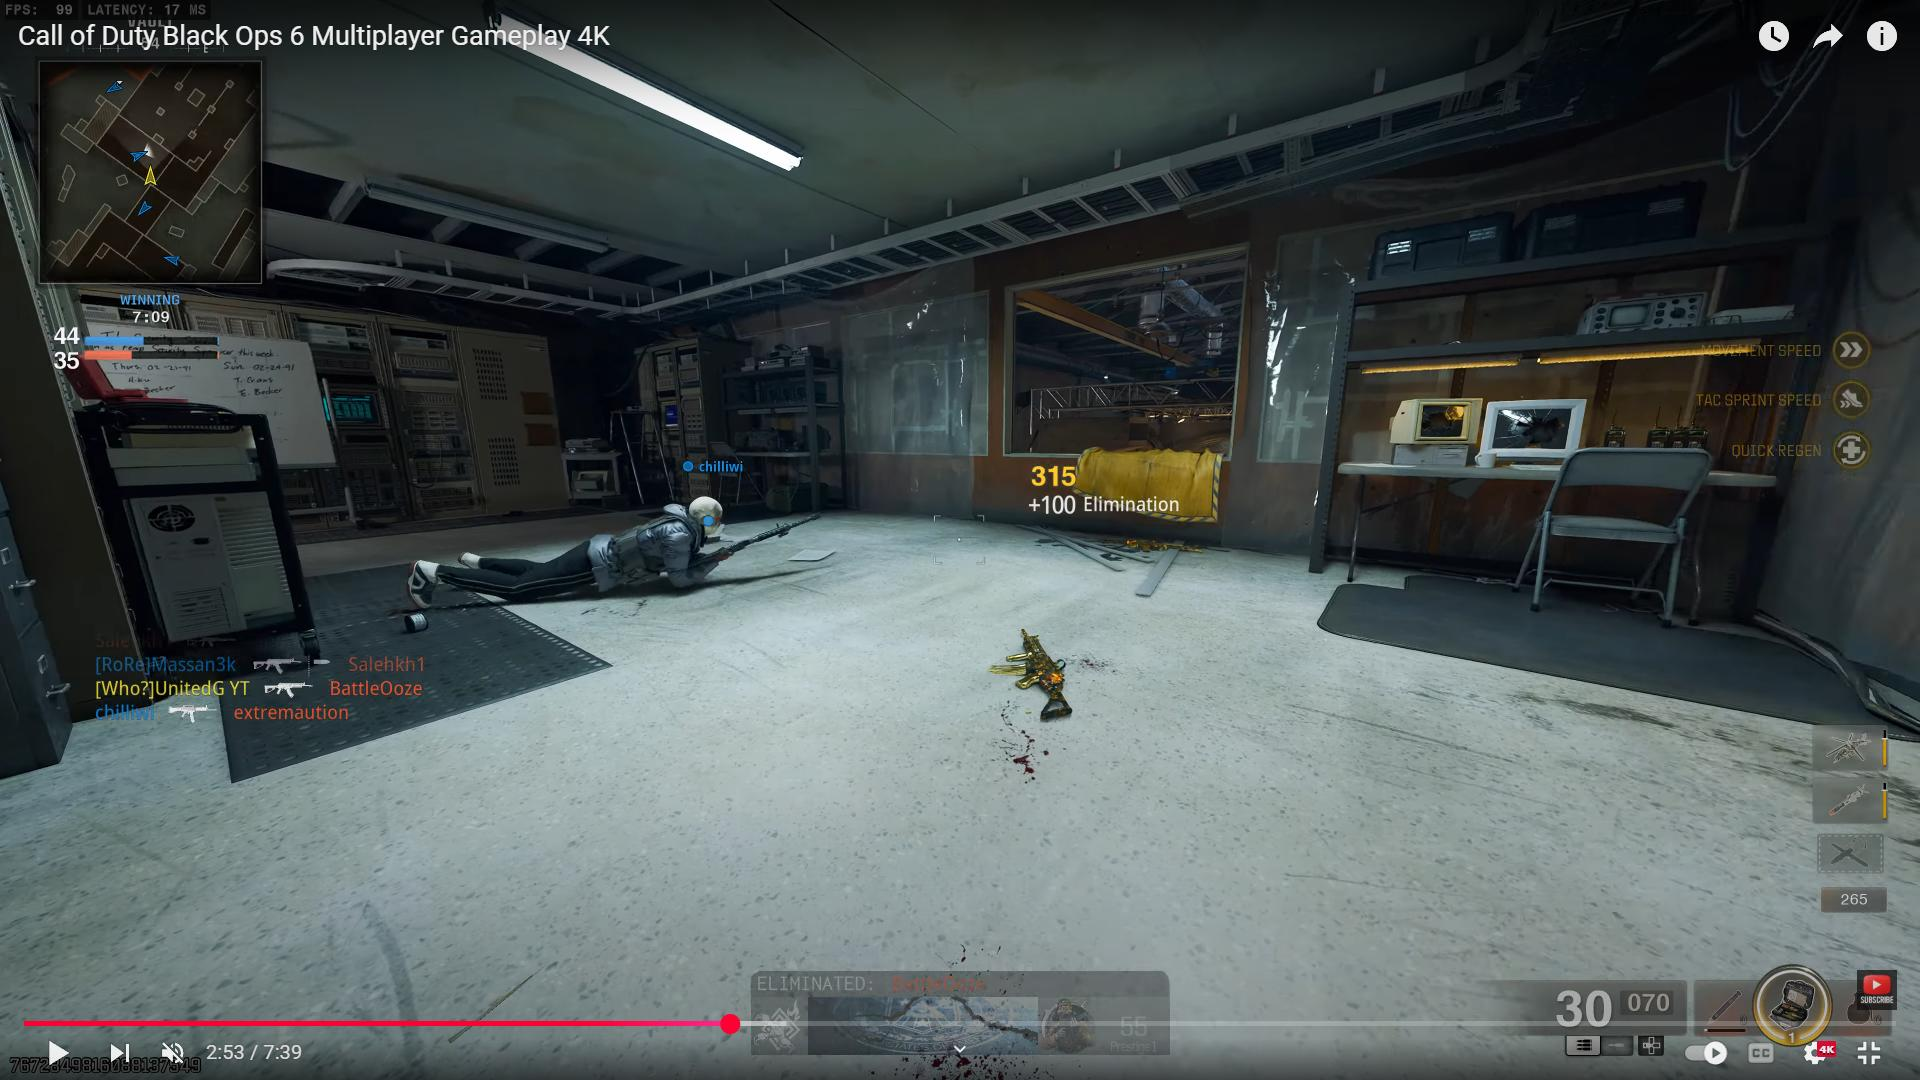Enemy: (392, 504, 758, 599)
